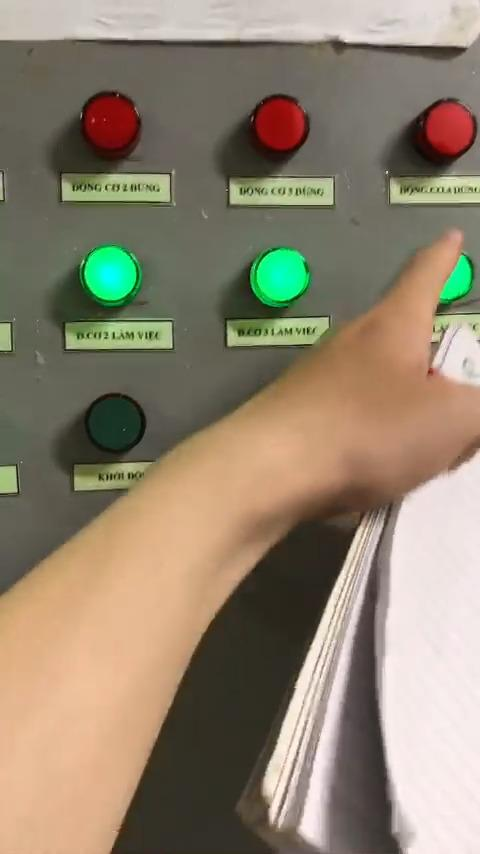led: (78, 89, 145, 158), (79, 394, 149, 459), (76, 245, 142, 308), (247, 250, 313, 310), (249, 91, 310, 150), (419, 99, 475, 154), (417, 250, 473, 305)
